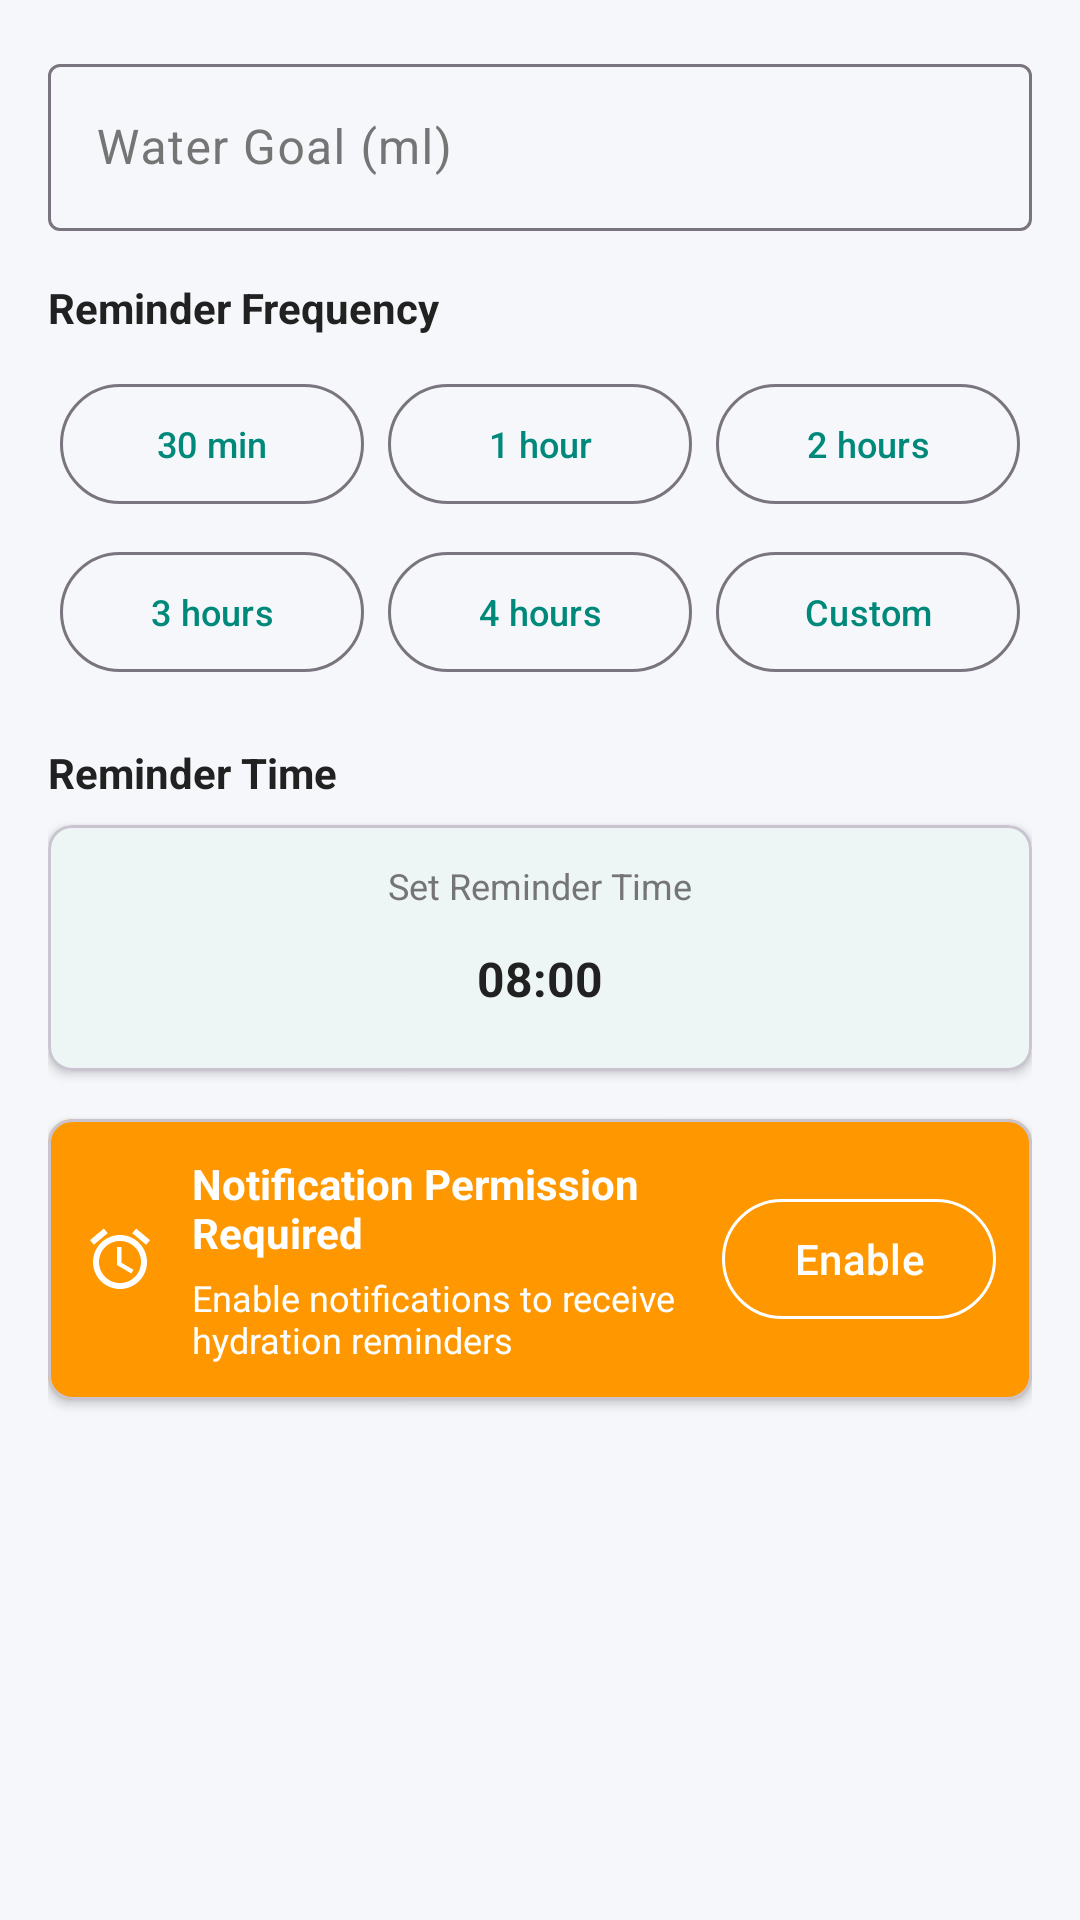

Locate icon controls on the screen. Image size 1080w x 1920h, boxes as [x1, y1, x2, y2].
alarm: [90, 1228, 150, 1289]
